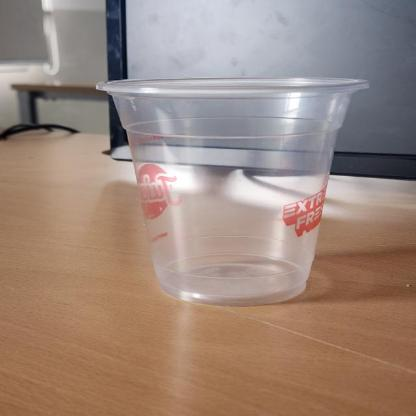Plastic Cup: (96, 76, 370, 308)
